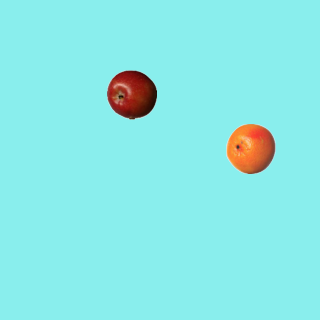Apple Braeburn: (106, 69, 156, 119)
Grapefruit Pink: (225, 123, 275, 173)
